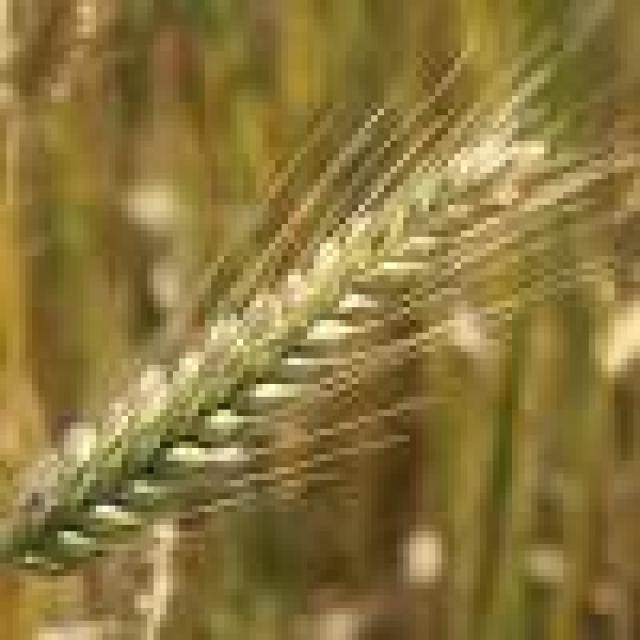Wheathead: (0, 115, 548, 583)
